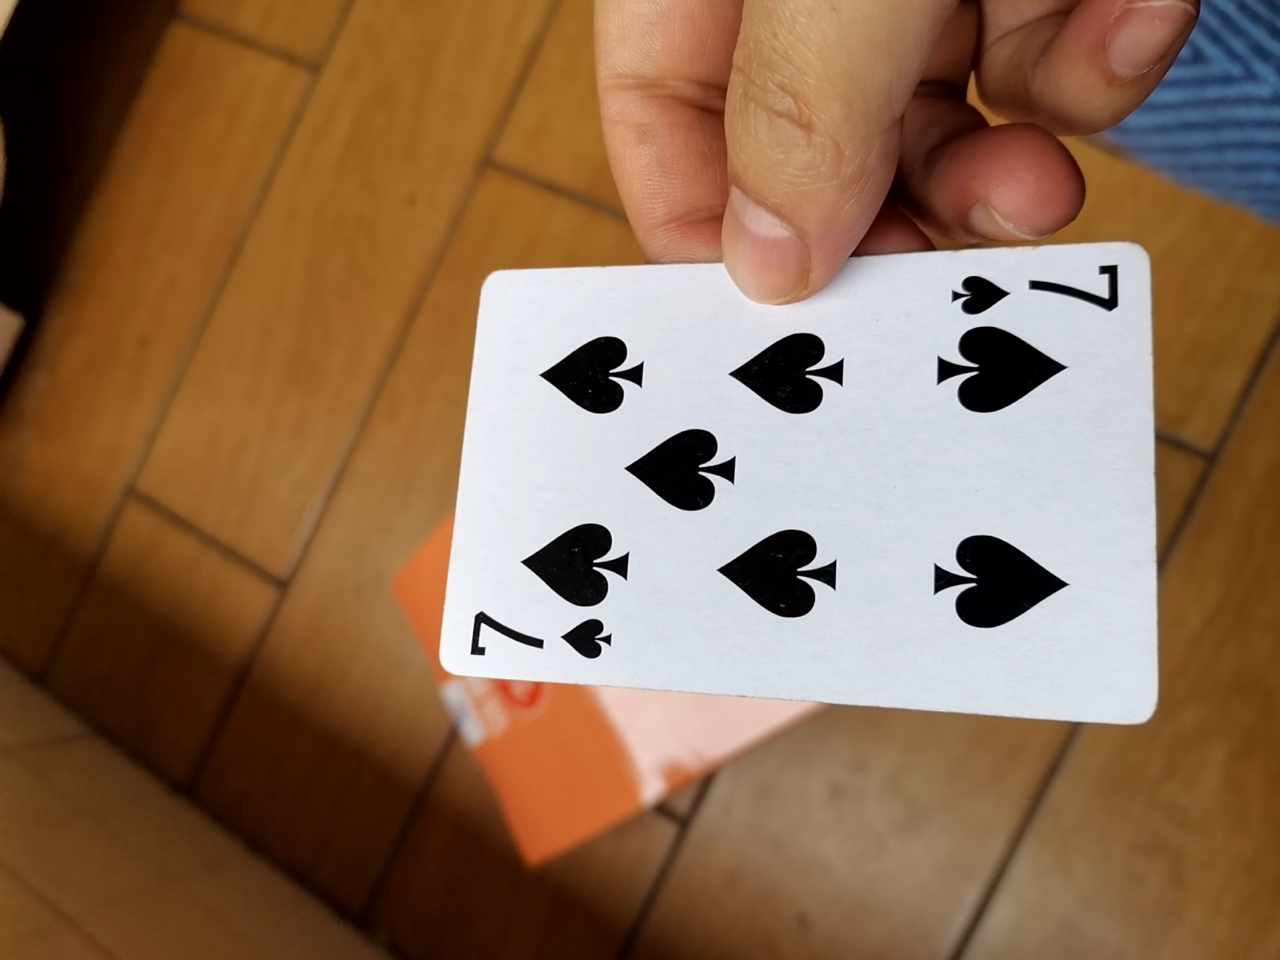ht 7: (431, 247, 1173, 727)
